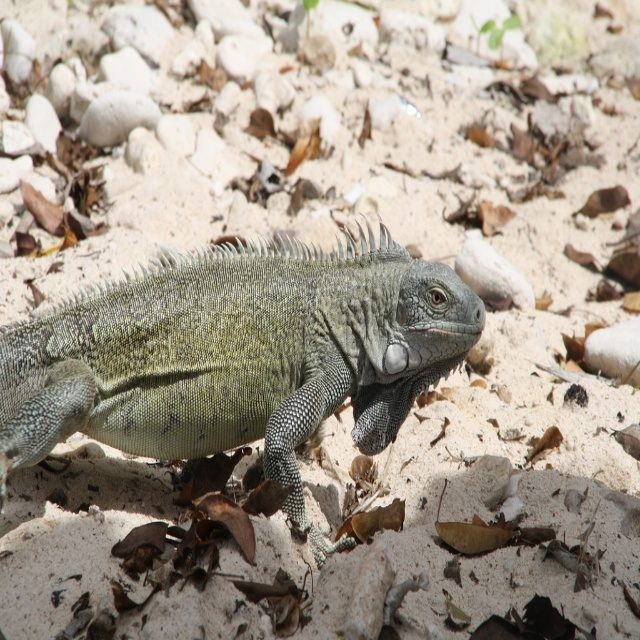Lizard: (0, 212, 486, 572)
